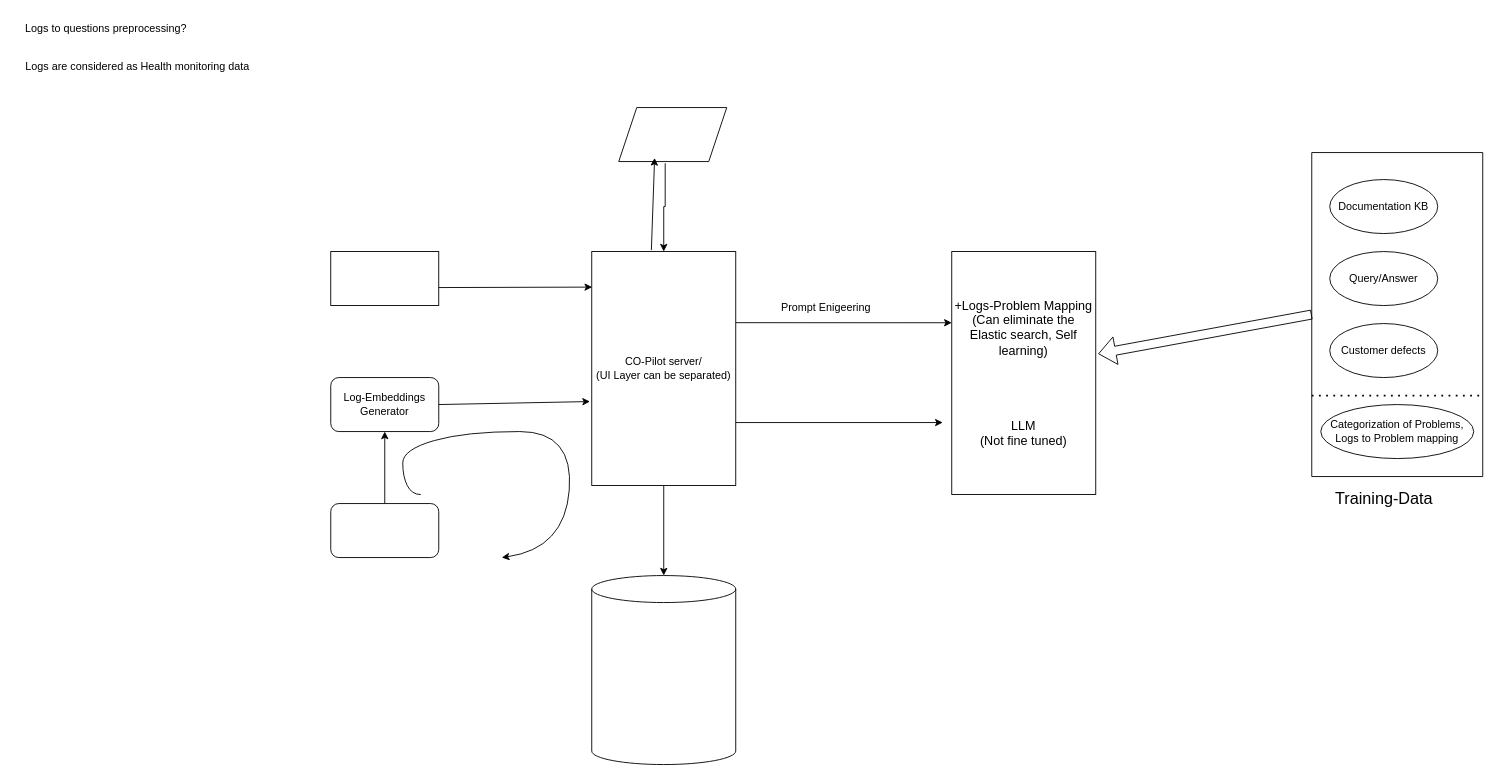
Image size: 1499x780. Some labels were removed from this diagram. The centre of each missing label's shape, as x and y in pixels:
Cache Session data, Chat history: (x=672, y=134)
Client UI: (x=384, y=278)
Log-Reading Script: (x=384, y=530)
ServerDB -User Data -Recent Logs -PossibleProblems -Problem History: (x=663, y=670)
